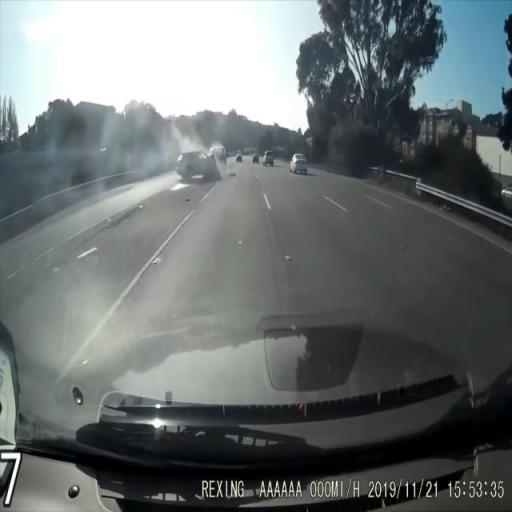小汽车: (287, 150, 312, 177), (260, 148, 278, 170)
小汽车撞小汽车: (172, 142, 231, 183)
